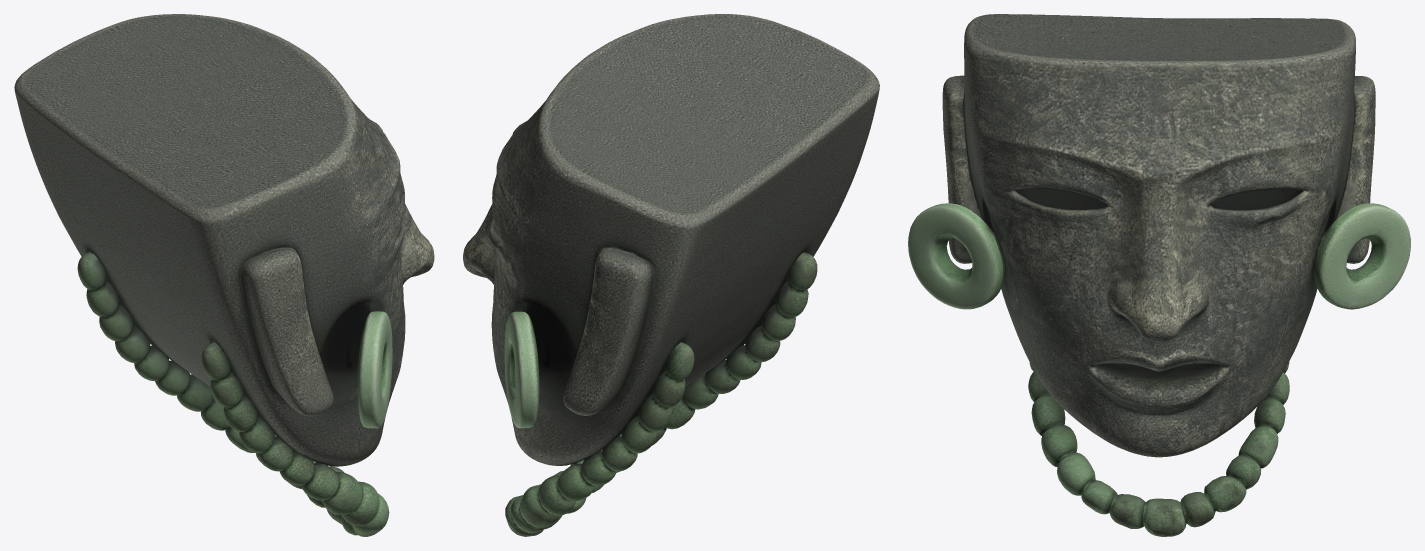
The model's file is hyp-1.glb.
The picture shows the model from 3 angles, left to right: view 1: azimuth 30°, elevation 25°; view 2: azimuth 150°, elevation 25°; view 3: azimuth 270°, elevation 25°; orthographic projection. The views are drawn at different scales.
Visible parts, largest first — view 1: tripo_node_ed7bf5fc-987e-42fc-824e-bd23958961fd; view 2: tripo_node_ed7bf5fc-987e-42fc-824e-bd23958961fd; view 3: tripo_node_ed7bf5fc-987e-42fc-824e-bd23958961fd.
Boxes of the visible parts, x1,y1,x2,y2 form: tripo_node_ed7bf5fc-987e-42fc-824e-bd23958961fd: [14, 14, 434, 536]; tripo_node_ed7bf5fc-987e-42fc-824e-bd23958961fd: [463, 14, 879, 536]; tripo_node_ed7bf5fc-987e-42fc-824e-bd23958961fd: [908, 14, 1410, 536].
Size of the model in its own units: 0.7015 by 0.9886 by 1.
Materials: 1 (1 with a texture image).
